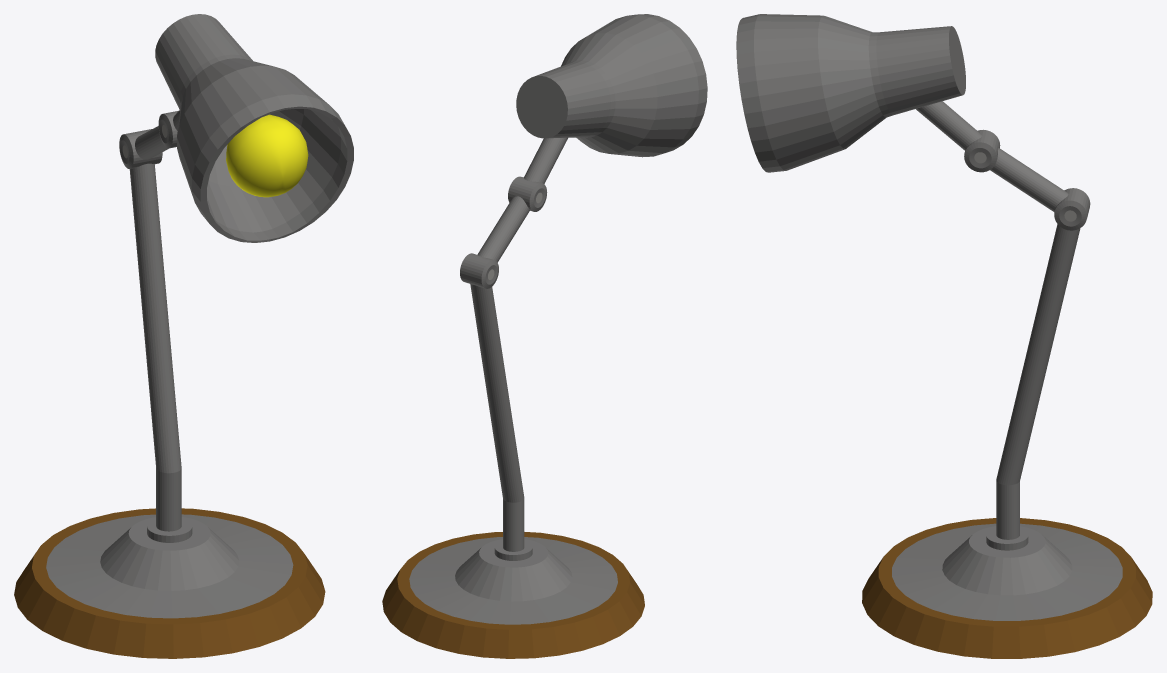
Rendered from Desk_Lamp_ON.fbx.
The picture shows the model from 3 angles, left to right: view 1: azimuth 30°, elevation 25°; view 2: azimuth 150°, elevation 25°; view 3: azimuth 270°, elevation 25°; orthographic projection. The views are drawn at different scales.
Visible parts, largest first — view 1: Cylinder.011; view 2: Cylinder.011; view 3: Cylinder.011.
Boxes of the visible parts, x1,y1,x2,y2 form: Cylinder.011: (14, 14, 353, 658); Cylinder.011: (382, 14, 707, 658); Cylinder.011: (736, 14, 1152, 658).
Bounding box in the file's own units: 36.39 × 78.29 × 52.14.
